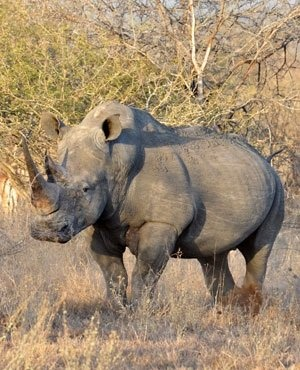rhino: (21, 100, 286, 318)
